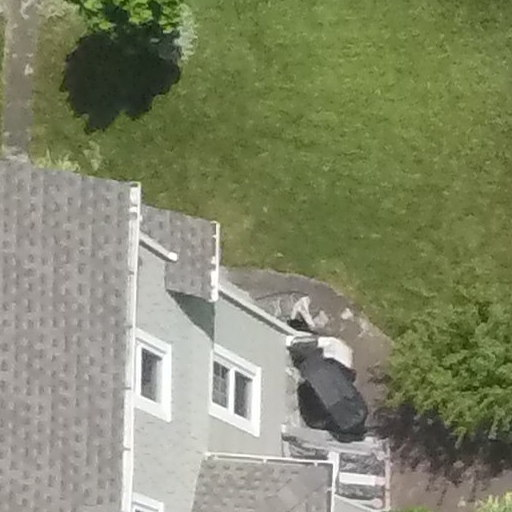barbecue: (265, 329, 390, 431)
